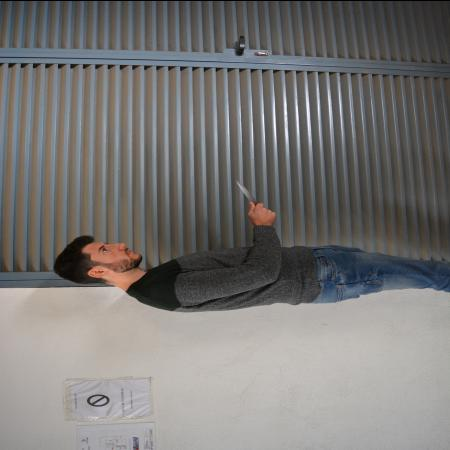long weapon: (232, 176, 264, 214)
